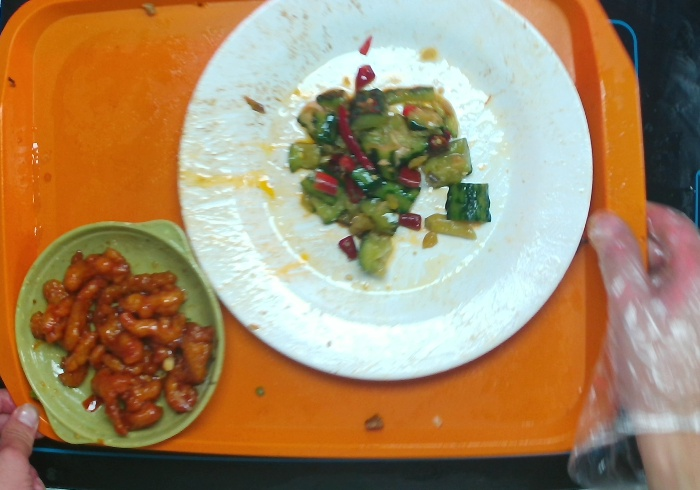NLDX-Da_Yuan_Pan: (172, 1, 599, 390)
NLDX-Lv_Hua_Shuang_Er_Die: (9, 210, 230, 456)
